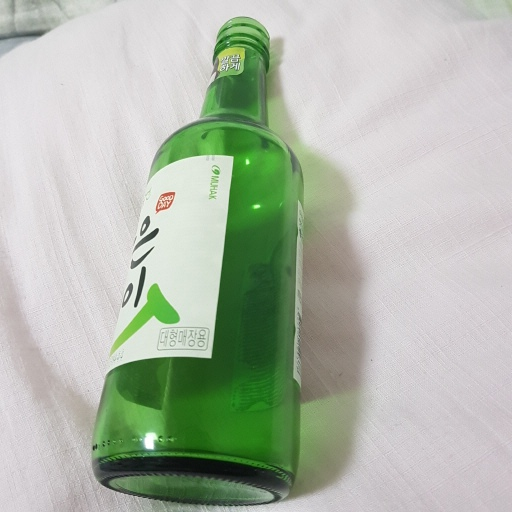Glass_0: (86, 13, 315, 512)
